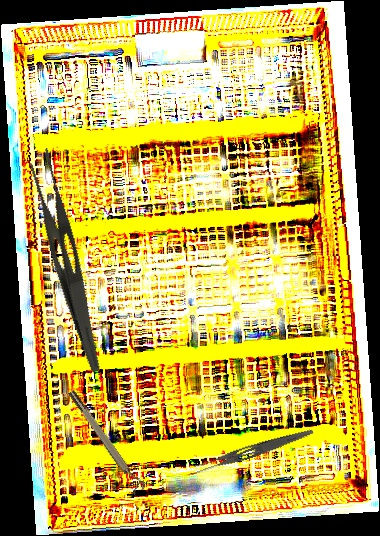Dressing Forceps: (16, 146, 125, 374), (191, 422, 315, 478)
Fixation Ring: (66, 385, 148, 496)
